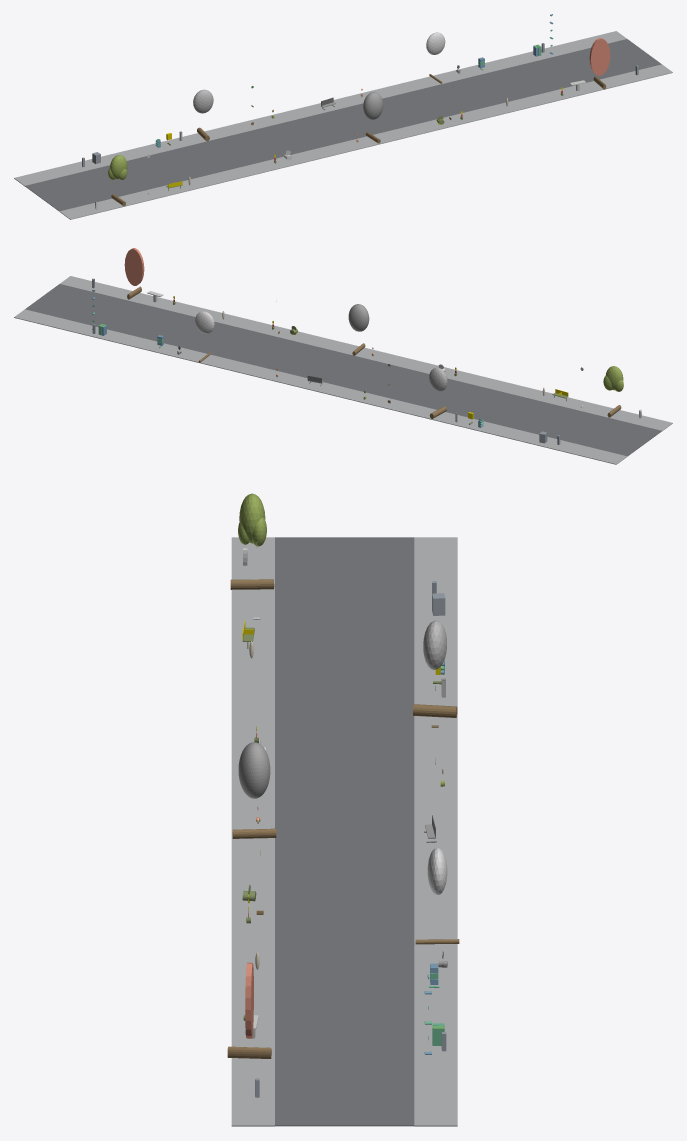
3 views of the same model, one above another, from view 1: azimuth 30°, elevation 25°; view 2: azimuth 150°, elevation 25°; view 3: azimuth 270°, elevation 25° (orthographic). The views are drawn at different scales.
Visible parts, largest first — view 1: road_slab, sidewalk_left, sidewalk_right, inst_0016, inst_0014, inst_0013, inst_0012, inst_0015; view 2: road_slab, sidewalk_right, sidewalk_left, inst_0016, inst_0014, inst_0012, inst_0013, inst_0015; view 3: road_slab, sidewalk_right, sidewalk_left, inst_0014, inst_0012, inst_0013, inst_0016, inst_0015.
Boxes of the visible parts, <box> form: road_slab: <box>25,39,661,211</box>; sidewalk_left: <box>59,64,672,219</box>; sidewalk_right: <box>14,31,626,186</box>; inst_0016: <box>589,38,610,89</box>; inst_0014: <box>363,92,383,143</box>; inst_0013: <box>193,89,213,141</box>; inst_0012: <box>108,155,127,206</box>; inst_0015: <box>426,32,445,83</box>; road_slab: <box>25,284,661,456</box>; sidewalk_right: <box>14,309,627,464</box>; sidewalk_left: <box>60,276,672,431</box>; inst_0016: <box>124,248,144,299</box>; inst_0014: <box>348,304,369,355</box>; inst_0012: <box>603,366,623,417</box>; inst_0013: <box>429,367,447,418</box>; inst_0015: <box>195,311,214,362</box>; road_slab: <box>275,537,414,1126</box>; sidewalk_right: <box>414,537,457,1126</box>; sidewalk_left: <box>231,537,274,1126</box>; inst_0014: <box>232,742,276,838</box>; inst_0012: <box>230,493,274,589</box>; inst_0013: <box>413,620,457,717</box>; inst_0016: <box>227,962,271,1058</box>; inst_0015: <box>415,847,459,944</box>.
Bounding box in the file's own units: 80 × 6.08 × 13.31.
